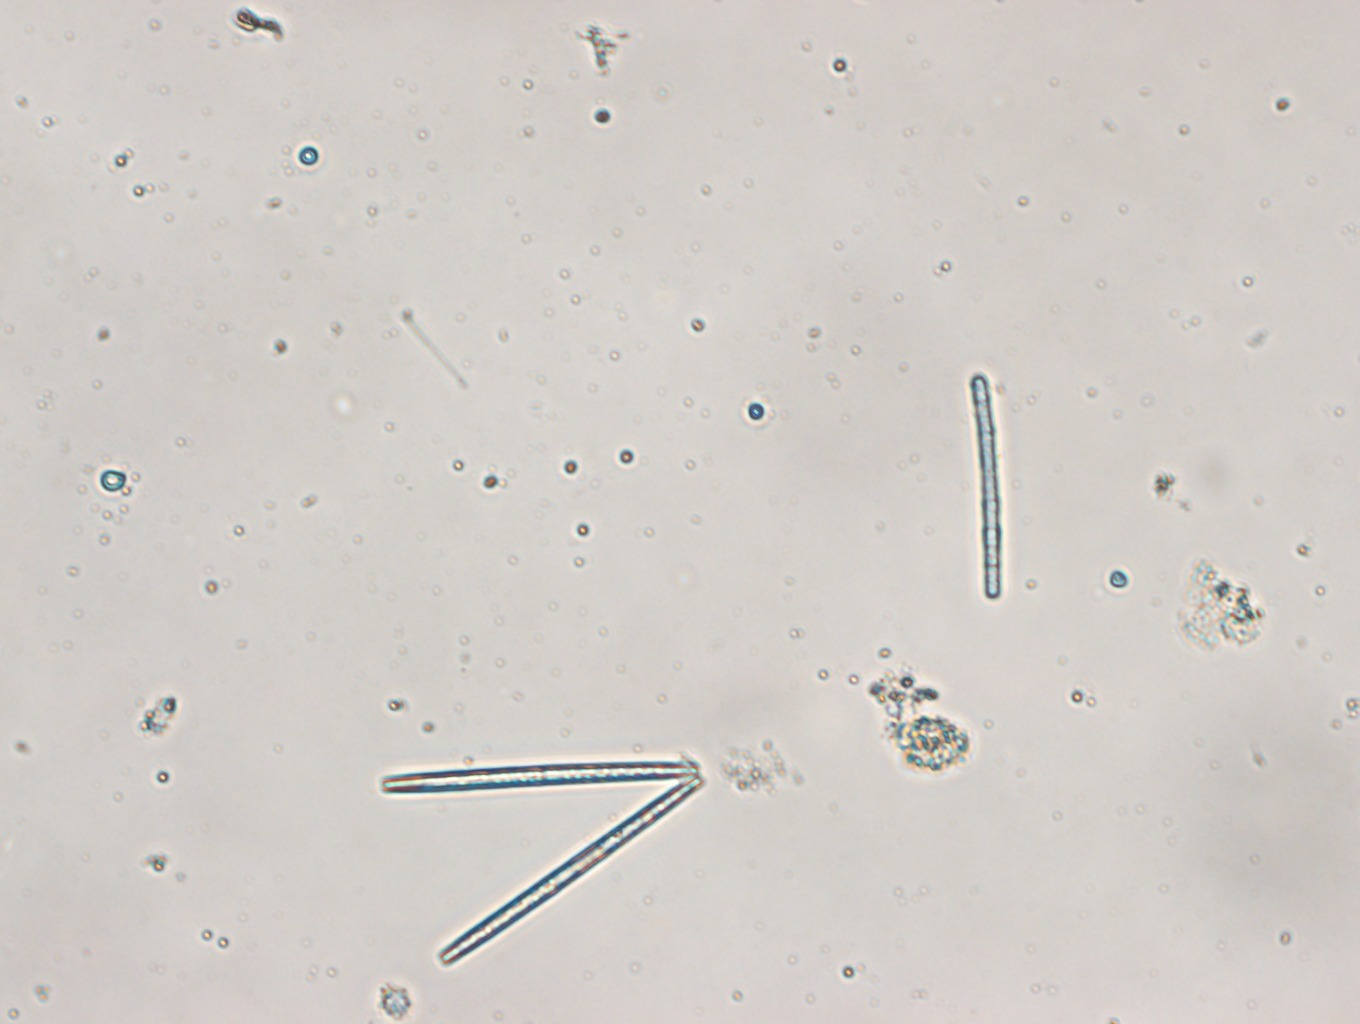thalassionema nitzschioides: (370, 749, 715, 975)
